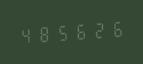eight: (35, 22, 52, 45)
five: (54, 21, 71, 44)
four: (17, 23, 34, 46)
six: (72, 19, 89, 42), (108, 17, 125, 40)
two: (90, 18, 107, 41)
